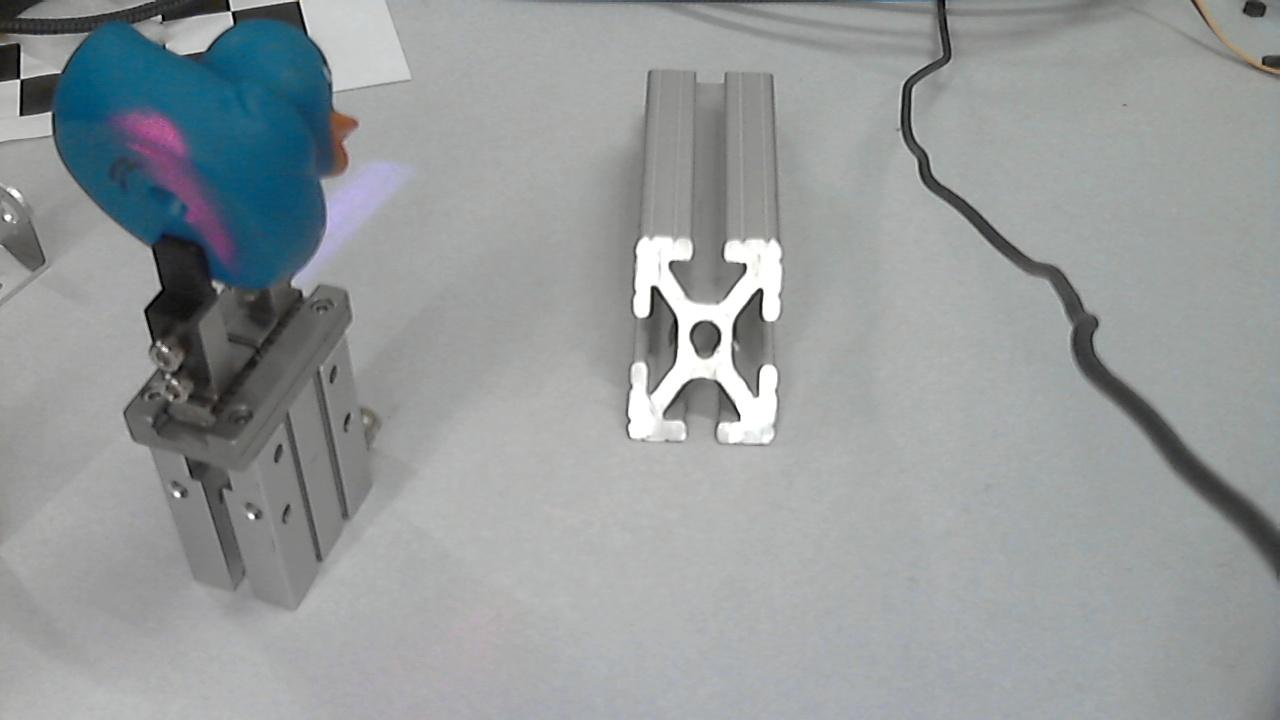Object rubber duck - Material rubber -Color blue - Pdfname BWuUnwTLudUE: (118, 115, 247, 263)
